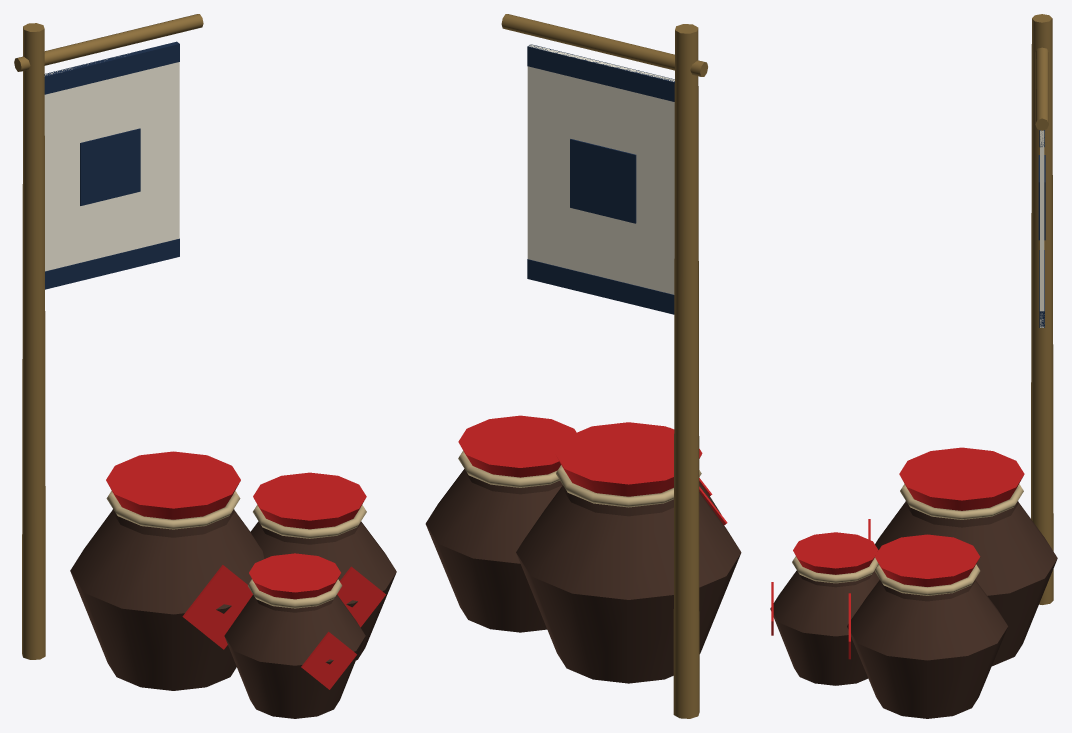
File: pal1-wine-cask.glb
3 views of the same model, side by side, from view 1: azimuth 30°, elevation 25°; view 2: azimuth 150°, elevation 25°; view 3: azimuth 270°, elevation 25° (orthographic). The views are drawn at different scales.
Parts seen in each view (by area): view 1: Pal1WineCasksAndFlag; view 2: Pal1WineCasksAndFlag; view 3: Pal1WineCasksAndFlag.
Boxes of the visible parts, left/top/right/bottom form: Pal1WineCasksAndFlag: left=14, top=14, right=396, bottom=718; Pal1WineCasksAndFlag: left=425, top=14, right=741, bottom=718; Pal1WineCasksAndFlag: left=770, top=14, right=1057, bottom=718.
Bounding box in the file's own units: 1.43 × 2.8 × 1.25.
